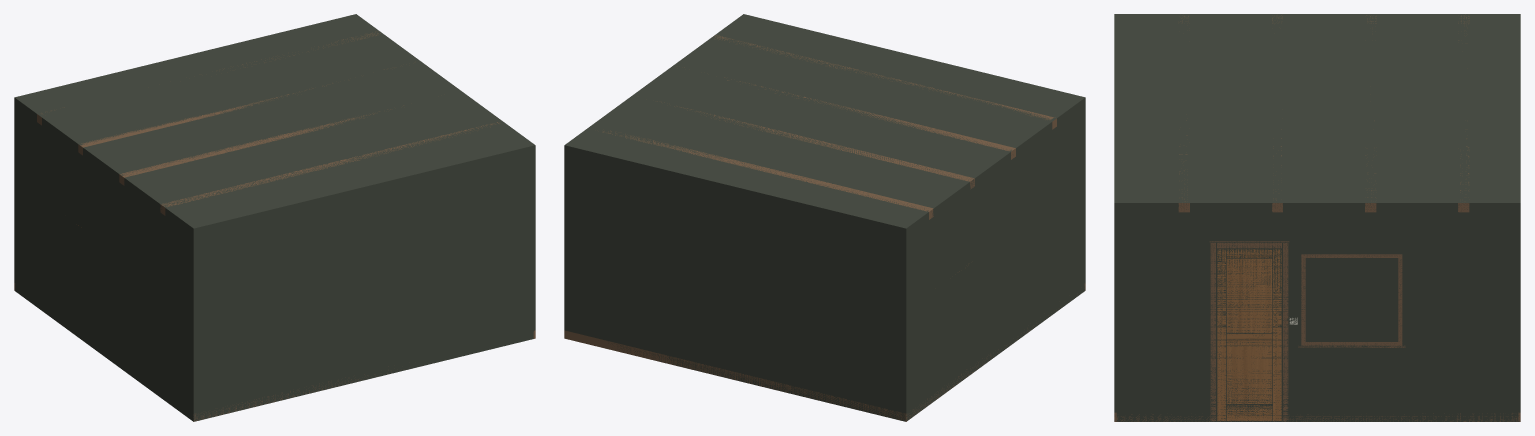
Rendered from studio-full-kit-m1-baseline-v02.glb.
3 renders of one model, left to right at view 1: azimuth 30°, elevation 25°; view 2: azimuth 150°, elevation 25°; view 3: azimuth 270°, elevation 25°, orthographic. The views are drawn at different scales.
Visible parts, largest first — view 1: arch_shell__walls_ceiling, arch_cornice__front, arch_beams__beam_4, arch_cornice__left, arch_beams__beam_3, arch_beams__beam_2, arch_cornice__back, arch_cornice__right; view 2: arch_shell__walls_ceiling, arch_skirting__back, arch_cornice__back, arch_beams__beam_1, arch_beams__beam_2, arch_cornice__left, arch_beams__beam_3, arch_beams__beam_4, arch_cornice__front, arch_cornice__right; view 3: arch_shell__walls_ceiling, arch_door__leaf, arch_door__architrave, arch_cornice__right, arch_cornice__left, arch_skirting__right, arch_cornice__front, arch_cornice__back, arch_window__jamb_b, arch_window__jamb_a, arch_window__foot, arch_window__head.
Part boxes in pixels (x1,y1,x2,y2): arch_shell__walls_ceiling: (14,15,535,421); arch_cornice__front: (192,144,534,232); arch_beams__beam_4: (160,122,499,215); arch_cornice__left: (16,97,196,232); arch_beams__beam_3: (119,105,403,185); arch_beams__beam_2: (78,69,384,155); arch_cornice__back: (14,14,356,102); arch_cornice__right: (354,14,535,150); arch_shell__walls_ceiling: (564,14,1085,421); arch_skirting__back: (566,331,906,421); arch_cornice__back: (564,144,907,232); arch_beams__beam_1: (602,130,933,219); arch_beams__beam_2: (657,101,974,189); arch_cornice__left: (903,97,1083,232); arch_beams__beam_3: (684,67,1015,159); arch_beams__beam_4: (712,35,1056,129); arch_cornice__front: (742,14,1085,101); arch_cornice__right: (564,14,743,150); arch_shell__walls_ceiling: (1114,14,1520,421); arch_door__leaf: (1217,249,1281,420); arch_door__architrave: (1209,241,1289,421); arch_cornice__right: (1114,201,1520,207); arch_cornice__left: (1115,14,1520,15); arch_skirting__right: (1117,413,1517,421); arch_cornice__front: (1114,14,1118,207); arch_cornice__back: (1516,14,1520,207); arch_window__jamb_b: (1301,255,1305,344); arch_window__jamb_a: (1398,255,1402,345); arch_window__foot: (1301,342,1402,345); arch_window__head: (1301,254,1402,257).
Bounding box in the file's own units: 4.8 × 2.62 × 4.36.
10 materials, 3 textured.
